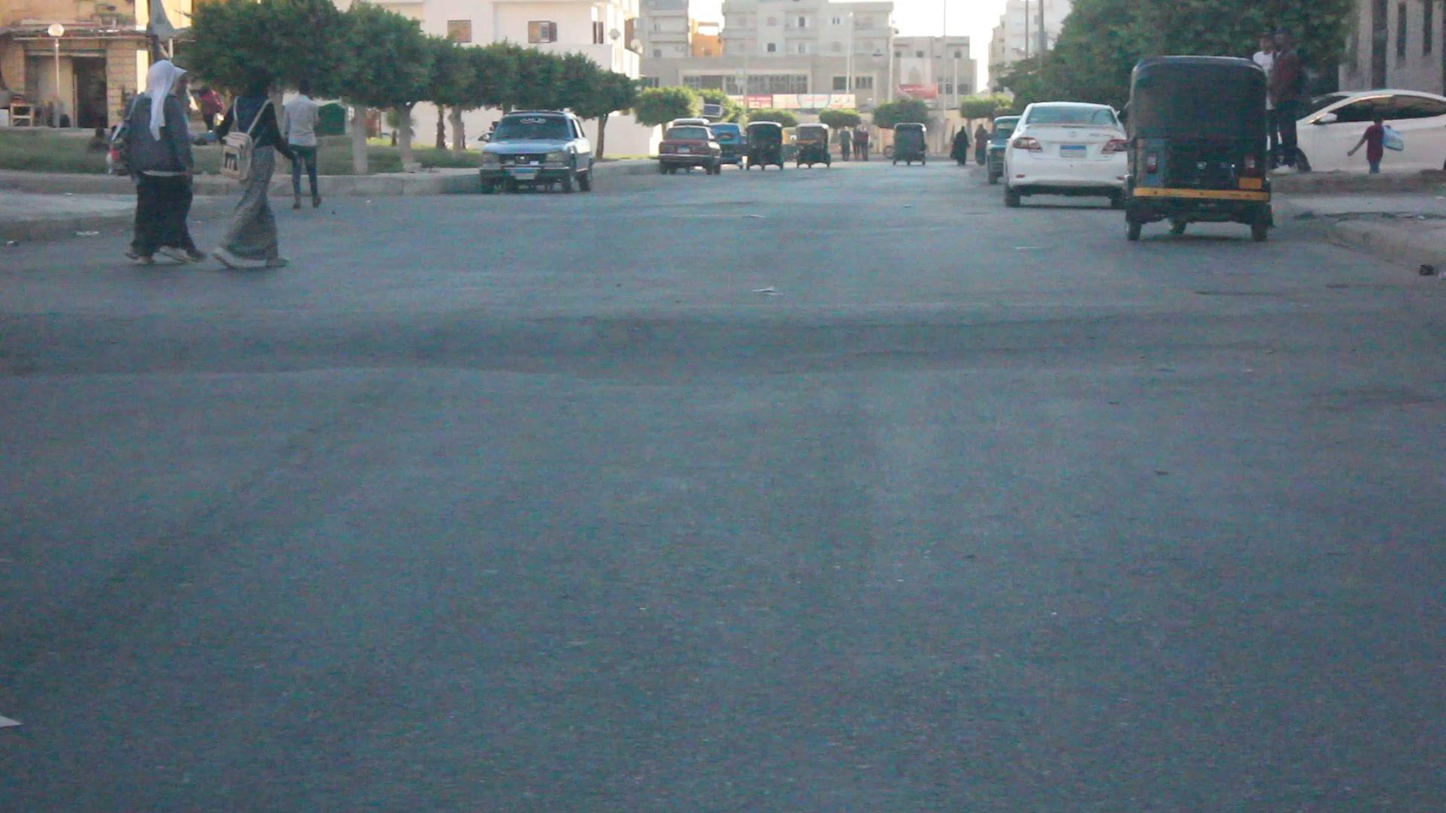Bump: (0, 282, 1446, 391)
